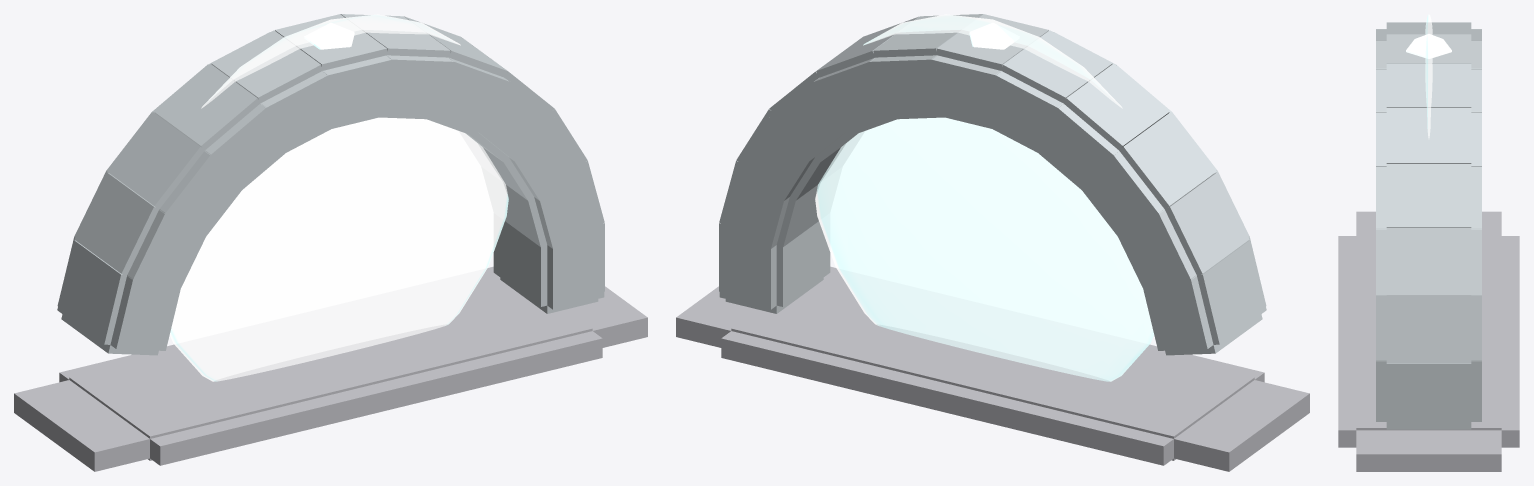
The model's file is build_portal_lake.glb.
3 views of the same model, side by side, from view 1: azimuth 30°, elevation 25°; view 2: azimuth 150°, elevation 25°; view 3: azimuth 270°, elevation 25° (orthographic). The views are drawn at different scales.
Visible parts, largest first — view 1: box; view 2: box; view 3: box.
Part boxes in pixels (box(x1,y1,x2,y2)): box: box(14, 14, 647, 471); box: box(676, 14, 1309, 471); box: box(1338, 14, 1519, 471).
Size of the model in its own units: 3.8 by 2.5 by 1.2.
